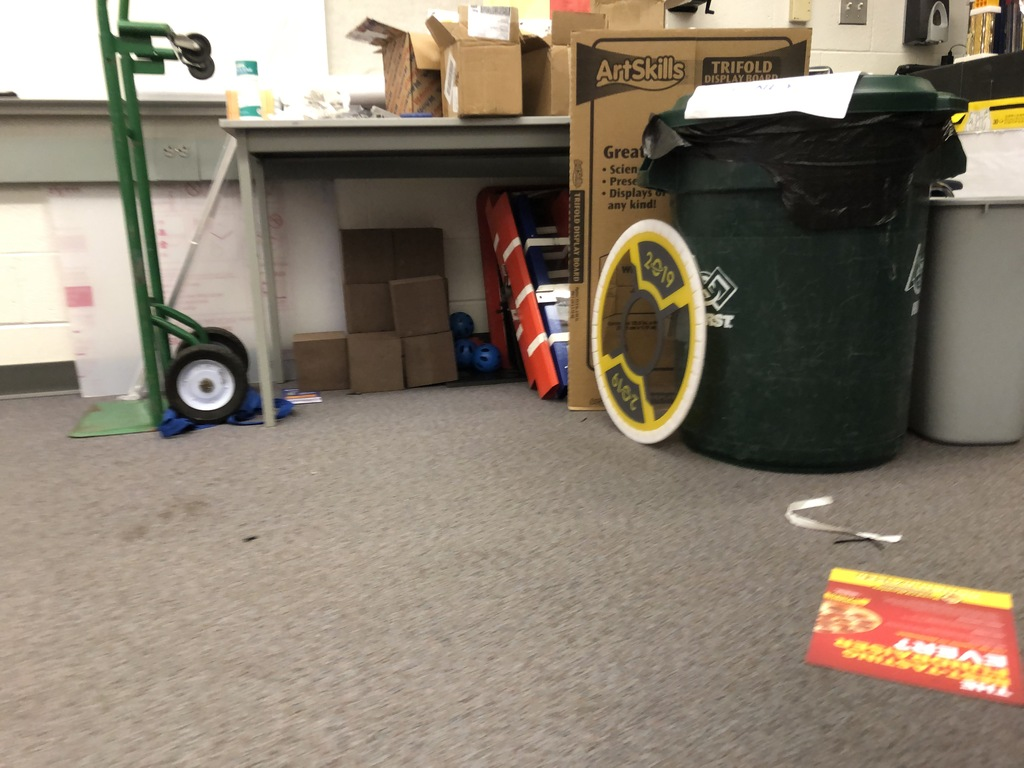hatch_panel: (591, 207, 711, 458)
